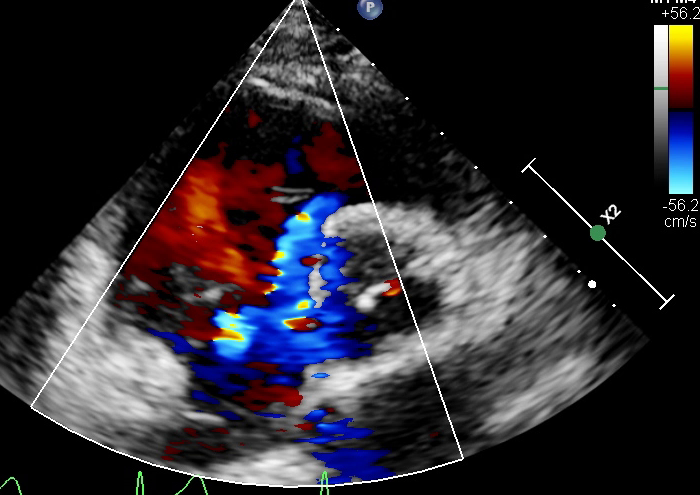TR: (237, 196, 340, 314)
